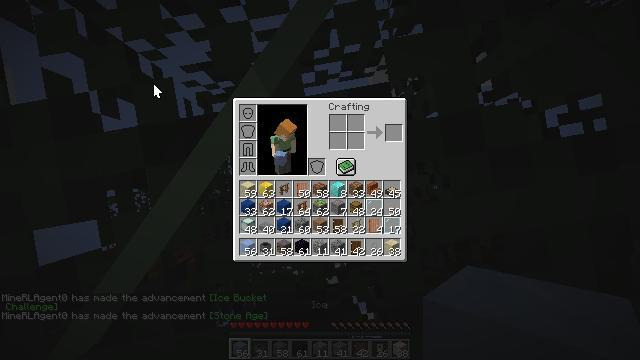cursor: (83, 153, 99, 163)
